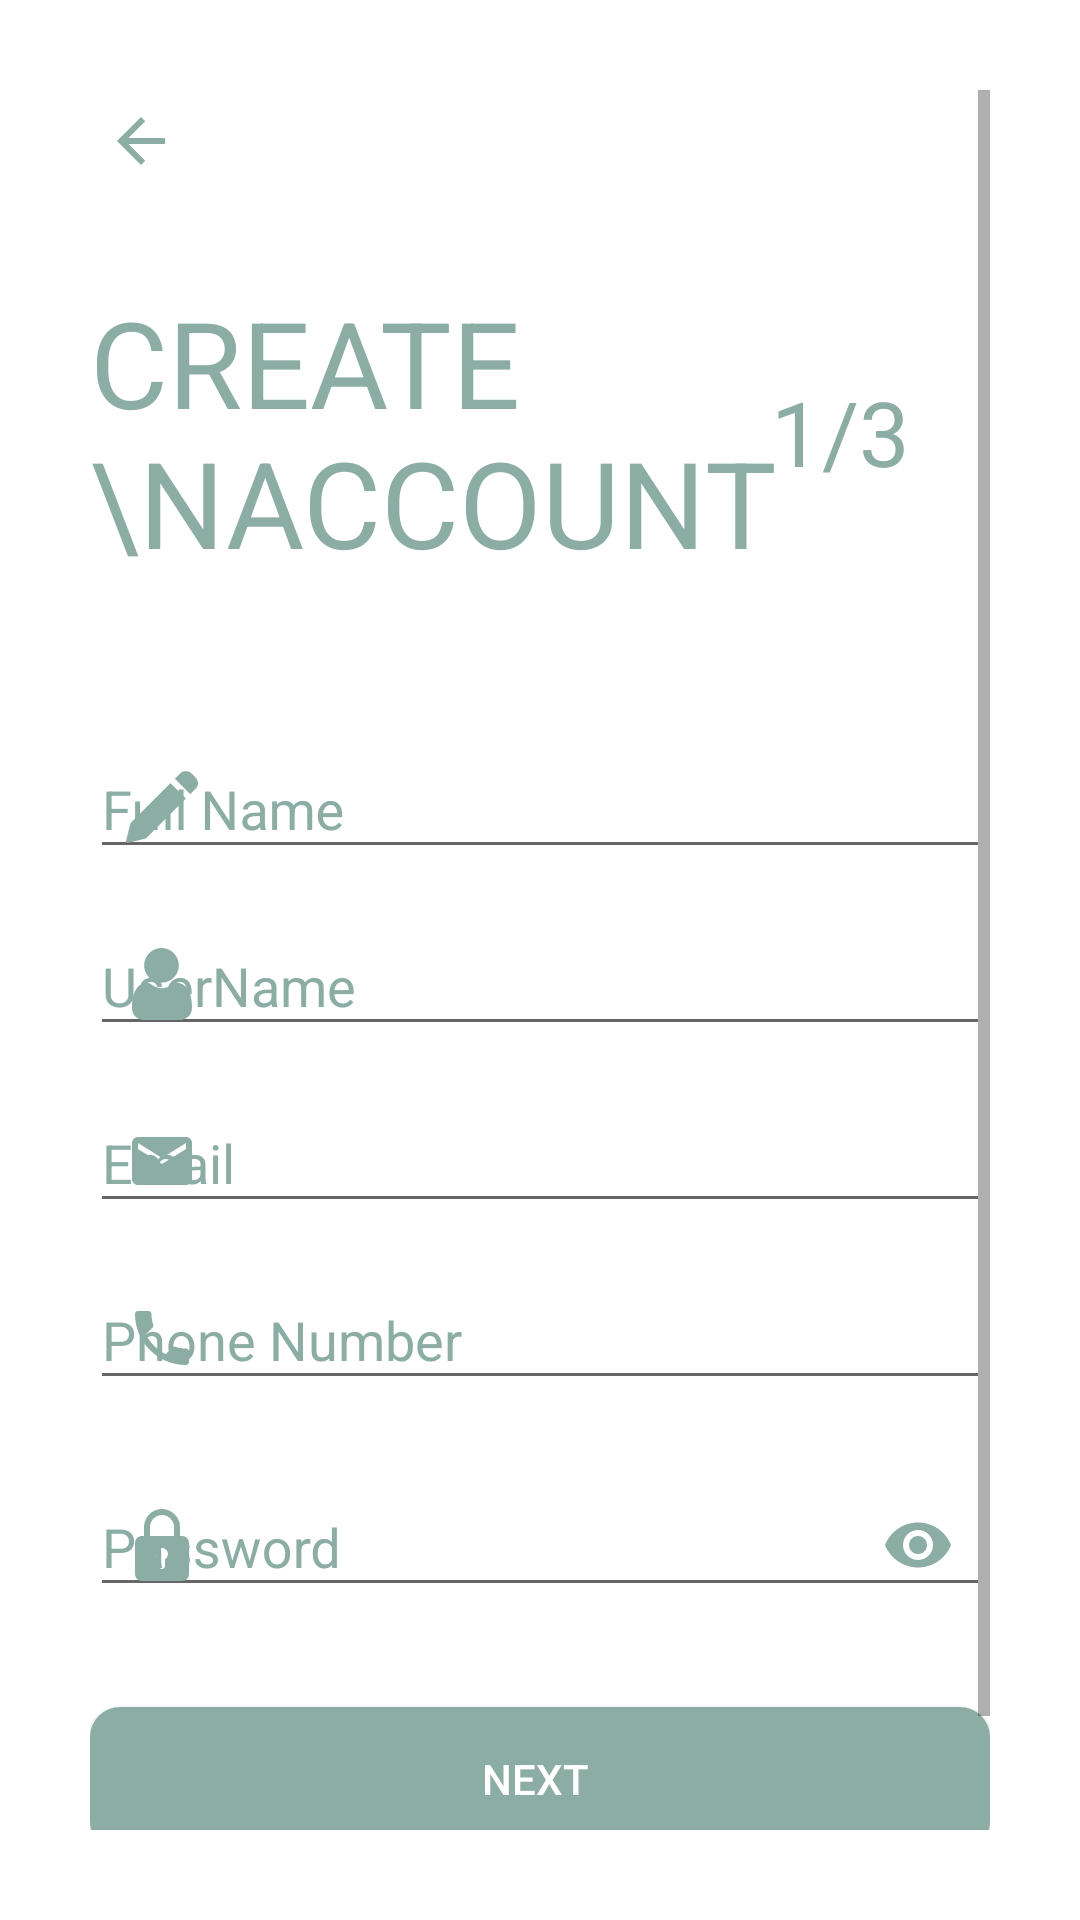

Point at icon controls on the screen. Image size 1080*1920, points as (x=x, y=y).
arrow back: (x=141, y=141)
